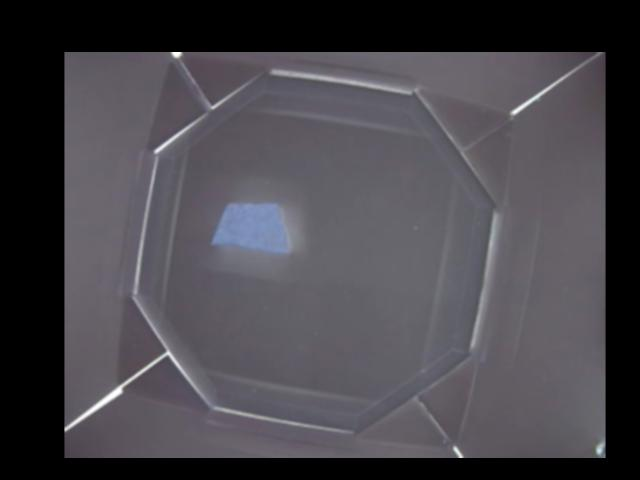China: (210, 203, 291, 259)
